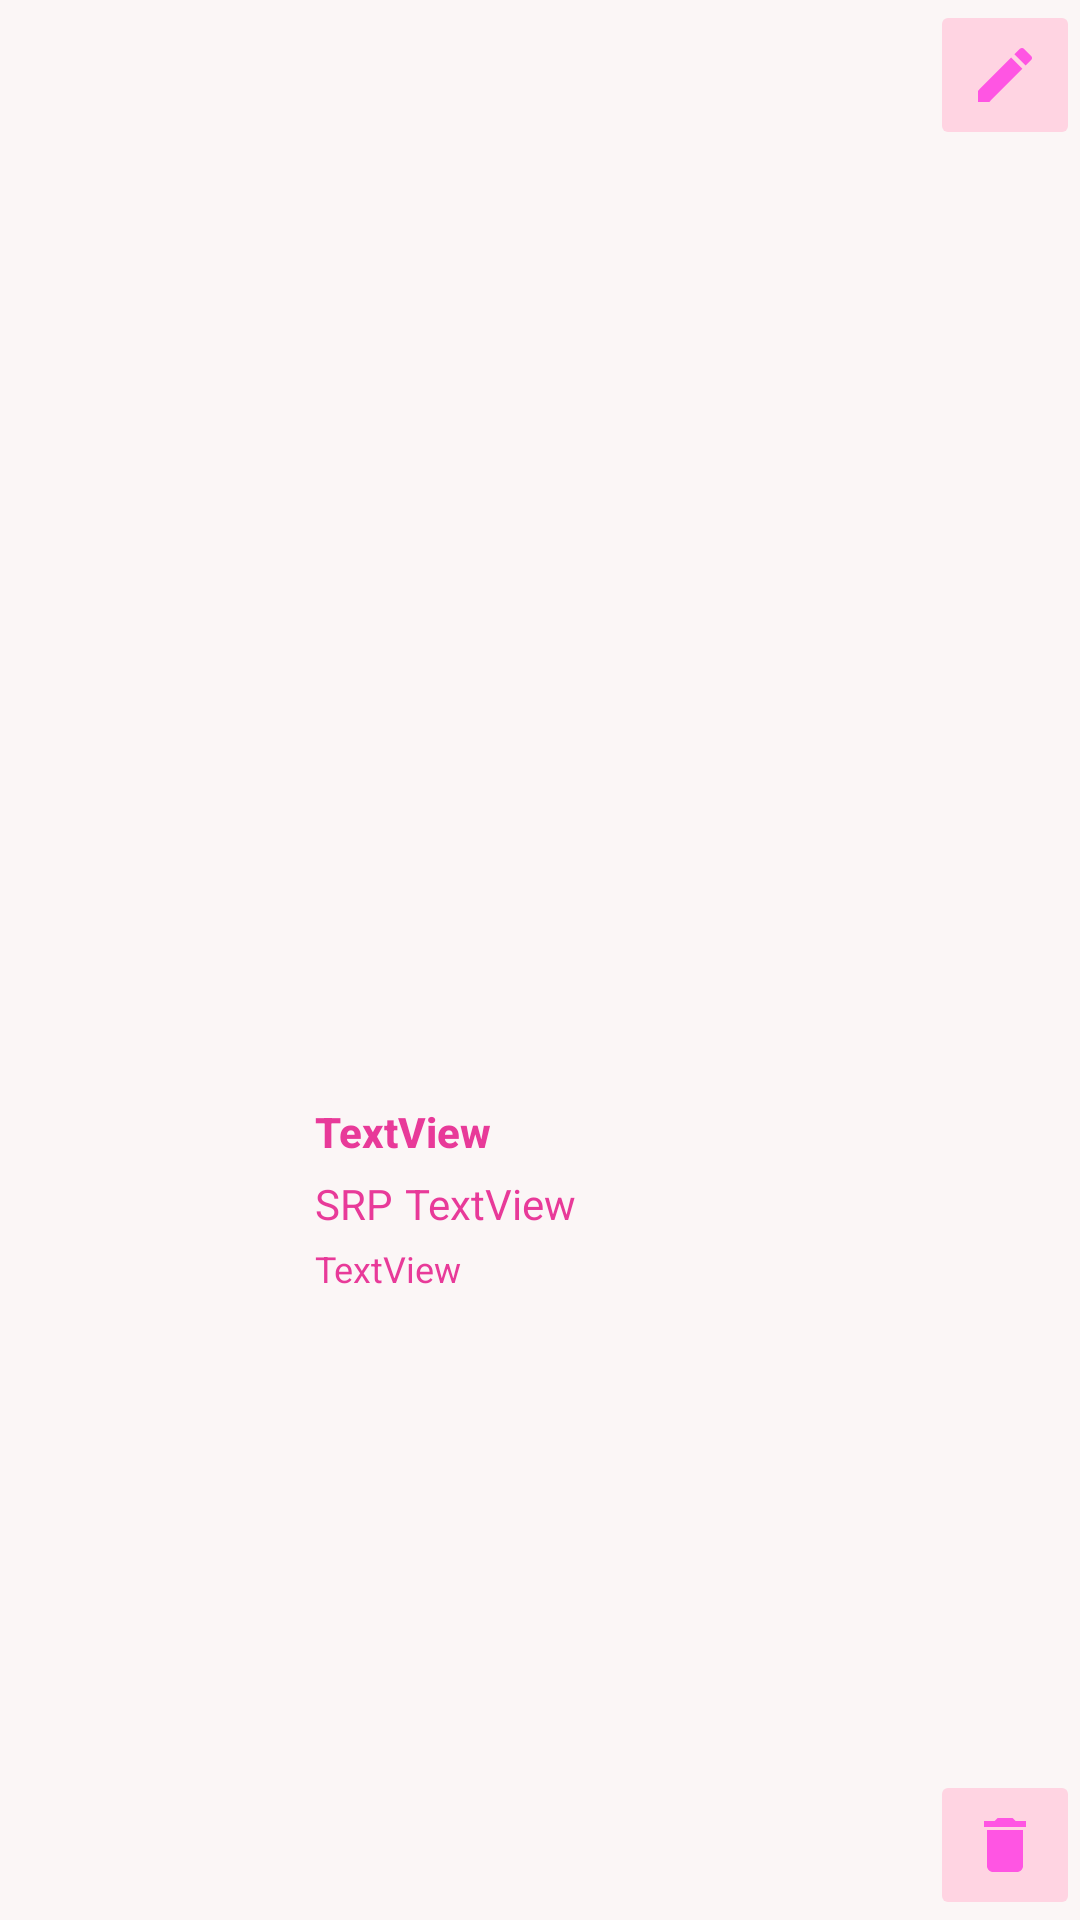

Icon click points for this 1080 x 1920 phone screenshot, format (x,y):
Delete: (1005,1845)
Update: (1005,75)
